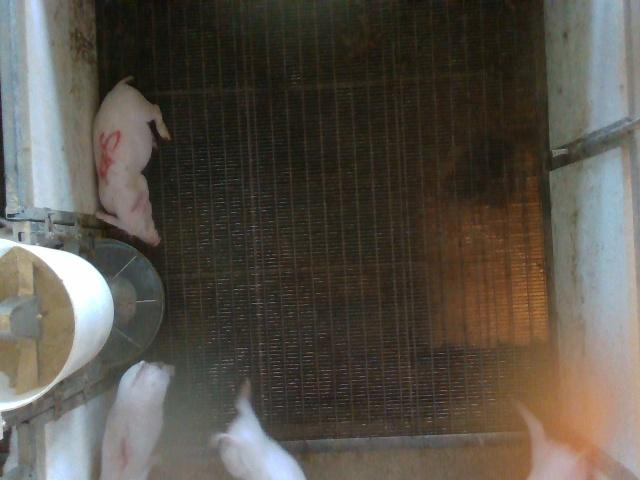pig-1: (100, 361, 174, 478)
pig-5: (94, 76, 170, 246)
